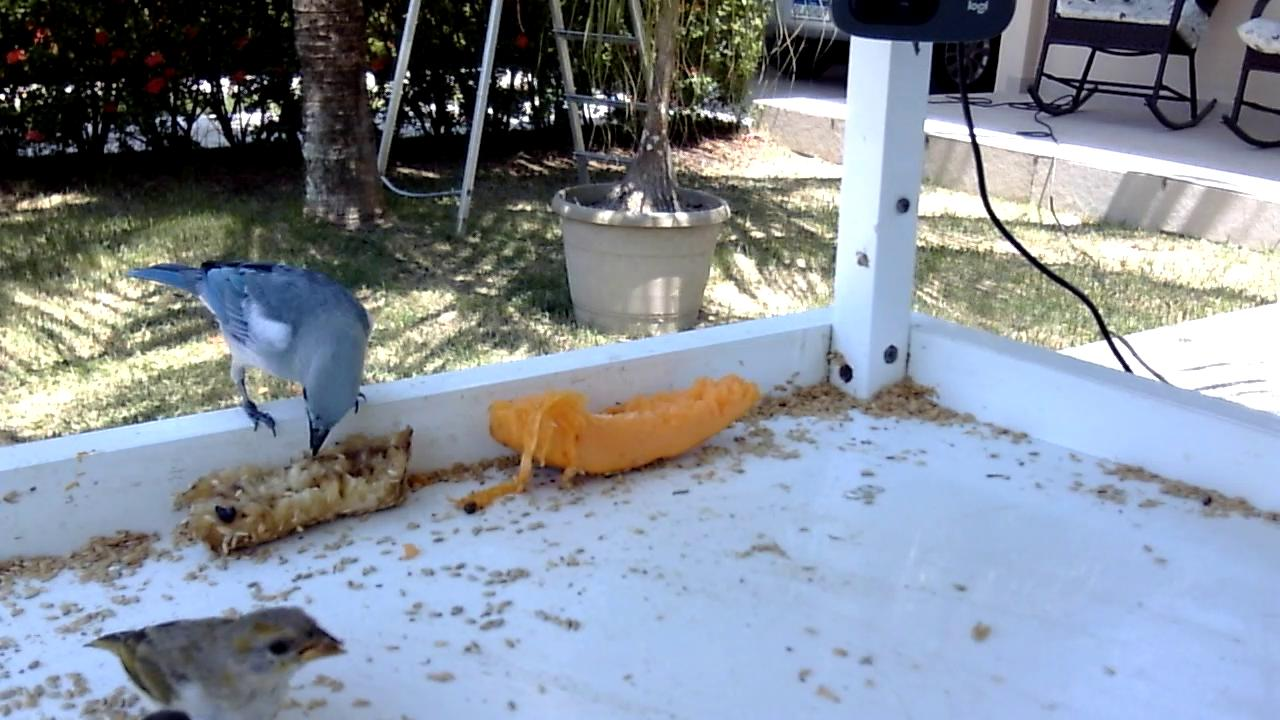canario_do_amazonas: (81, 604, 349, 720)
sanhaco_da_amazonia: (127, 259, 375, 464)
